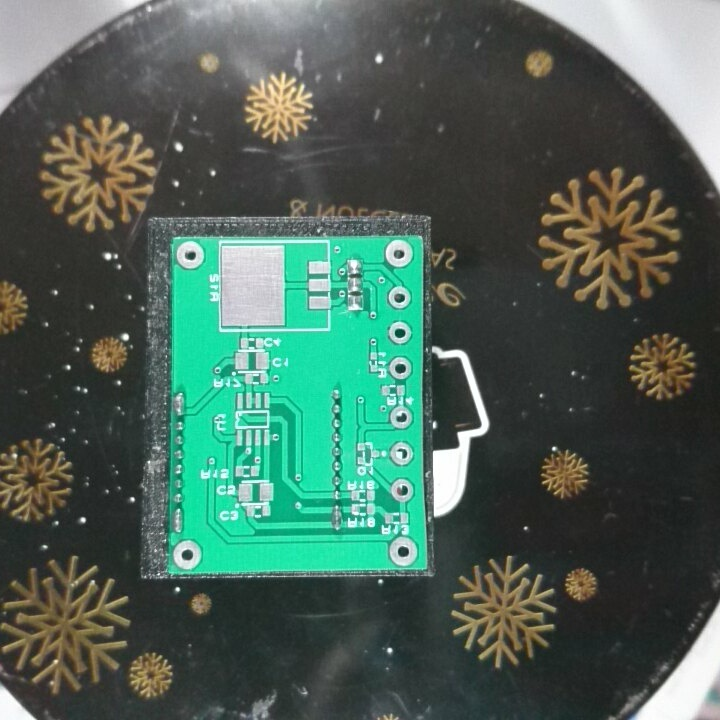F: (382, 237, 415, 271), (386, 534, 419, 567), (171, 539, 204, 572), (174, 238, 205, 272), (385, 318, 413, 347), (387, 438, 416, 466), (387, 401, 415, 429), (385, 282, 412, 309), (385, 354, 412, 381), (388, 477, 416, 503)
P: (171, 386, 188, 418), (329, 503, 343, 535), (171, 506, 185, 535)
